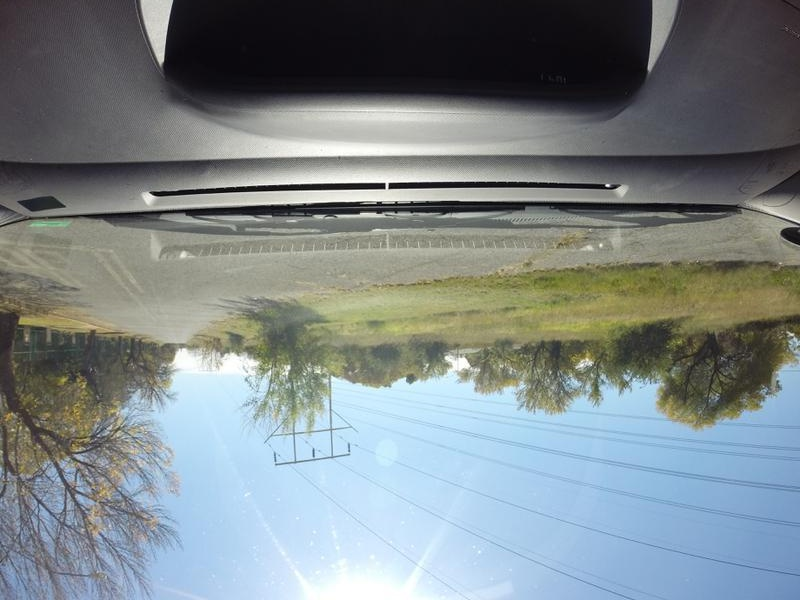pothole: (550, 226, 592, 251)
